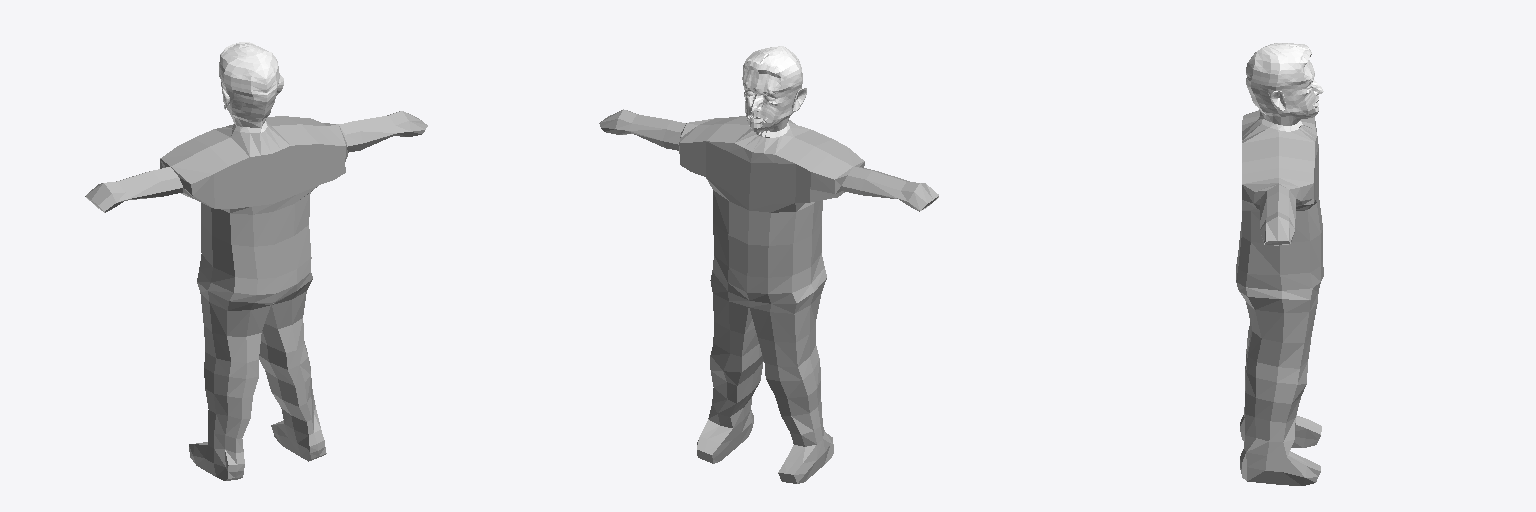
Rendered from logan_completo_final.obj.
The picture shows the model from 3 angles: view 1: azimuth 30°, elevation 25°; view 2: azimuth 150°, elevation 25°; view 3: azimuth 270°, elevation 25°; orthographic projection.
Parts seen in each view (by area): view 1: Cube.010_Cube.010, Cube.017_Cube.017, Cube.005_Cube.005, Cube.006_Cube.006, Cube.014_Cube.014, Cube.003_Cube.003, Cube.004_Cube.004, Cube.009_Cube.009, Cube.011_Cube.011, Cube.015_Cube.015, Cube.007_Cube.007, Cube.012_Cube.012 (+4 smaller); view 2: Cube.010_Cube.010, Cube.017_Cube.017, Cube.005_Cube.005, Cube.014_Cube.014, Cube.004_Cube.004, Cube.006_Cube.006, Cube.009_Cube.009, Cube.003_Cube.003, Cube.002_Cube.002, Cube.007_Cube.007, Cube.011_Cube.011, Cube.015_Cube.015 (+4 smaller); view 3: Cube.017_Cube.017, Cube.010_Cube.010, Cube.004_Cube.004, Cube.003_Cube.003, Cube.008_Cube.008, Cube.011_Cube.011, Cube.002_Cube.002, Cube.012_Cube.012, Cube.013_Cube.013, Cube.007_Cube.007.
Boxes of the visible parts, <box> form: Cube.010_Cube.010: <box>193,116,319,279</box>; Cube.017_Cube.017: <box>215,42,290,156</box>; Cube.005_Cube.005: <box>200,293,270,378</box>; Cube.006_Cube.006: <box>204,368,258,452</box>; Cube.014_Cube.014: <box>160,139,229,208</box>; Cube.003_Cube.003: <box>259,352,320,435</box>; Cube.004_Cube.004: <box>259,291,307,369</box>; Cube.009_Cube.009: <box>197,254,276,310</box>; Cube.011_Cube.011: <box>285,116,347,184</box>; Cube.015_Cube.015: <box>116,167,182,200</box>; Cube.007_Cube.007: <box>189,442,244,480</box>; Cube.012_Cube.012: <box>339,116,396,152</box>; Cube.010_Cube.010: <box>706,116,831,277</box>; Cube.017_Cube.017: <box>735,46,810,154</box>; Cube.005_Cube.005: <box>749,293,821,380</box>; Cube.014_Cube.014: <box>795,139,864,202</box>; Cube.004_Cube.004: <box>711,294,761,372</box>; Cube.006_Cube.006: <box>766,359,823,446</box>; Cube.009_Cube.009: <box>747,253,826,313</box>; Cube.003_Cube.003: <box>708,355,763,427</box>; Cube.002_Cube.002: <box>697,410,753,463</box>; Cube.007_Cube.007: <box>778,430,833,483</box>; Cube.011_Cube.011: <box>679,116,741,176</box>; Cube.015_Cube.015: <box>841,166,909,198</box>; Cube.017_Cube.017: <box>1242,43,1323,143</box>; Cube.010_Cube.010: <box>1238,116,1322,274</box>; Cube.004_Cube.004: <box>1246,302,1317,384</box>; Cube.003_Cube.003: <box>1244,373,1306,457</box>; Cube.008_Cube.008: <box>1236,262,1323,312</box>; Cube.011_Cube.011: <box>1242,156,1314,211</box>; Cube.002_Cube.002: <box>1240,449,1320,485</box>; Cube.012_Cube.012: <box>1260,184,1295,221</box>; Cube.013_Cube.013: <box>1260,212,1294,245</box>; Cube.007_Cube.007: <box>1240,415,1321,447</box>.
Size of the model in its own units: 24.48 by 29.44 by 5.63.